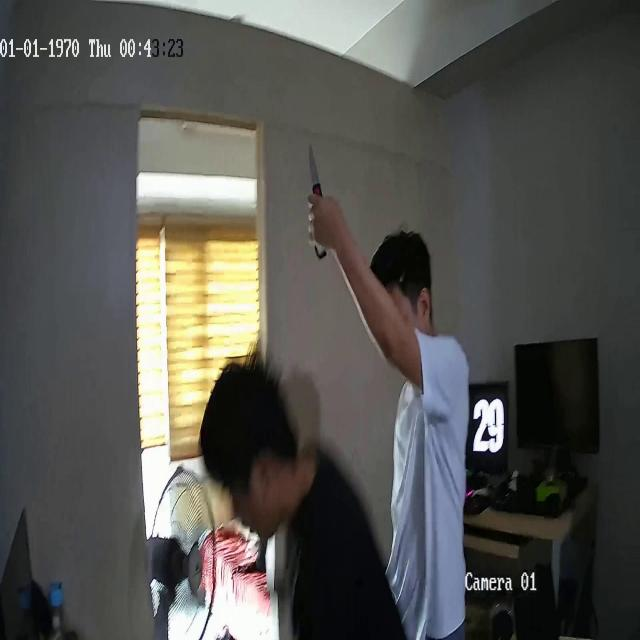scissor: (308, 142, 326, 258)
